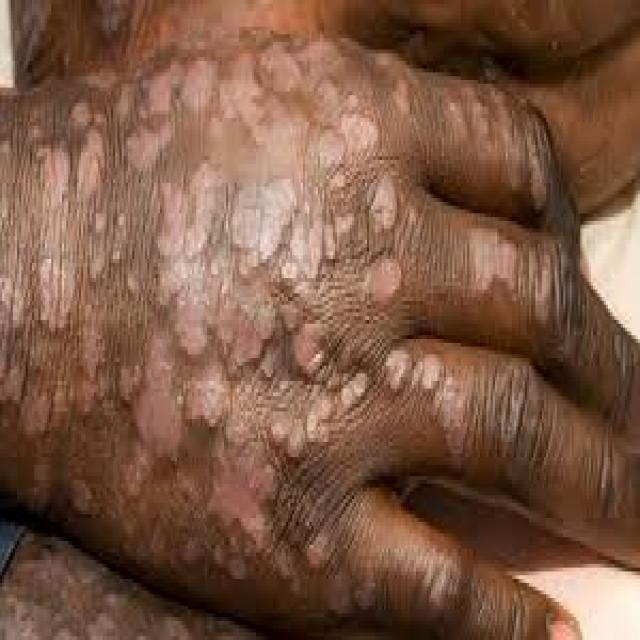Eczema: (13, 62, 536, 582)
